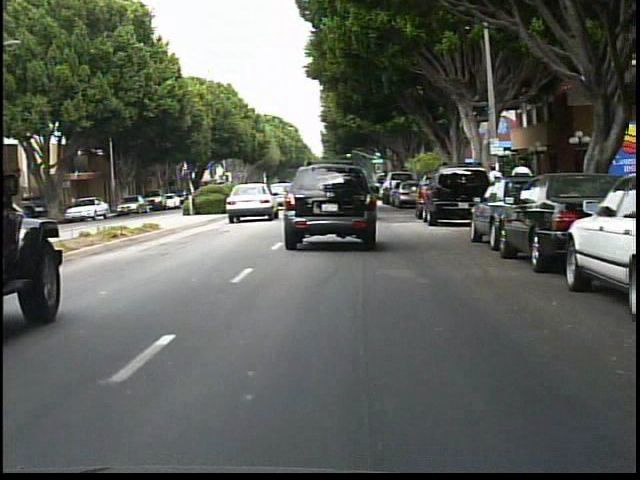person: (508, 156, 534, 217), (482, 163, 505, 211), (66, 190, 84, 222)
